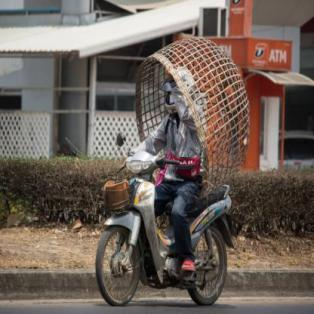Motocicleta: (88, 135, 234, 313)
